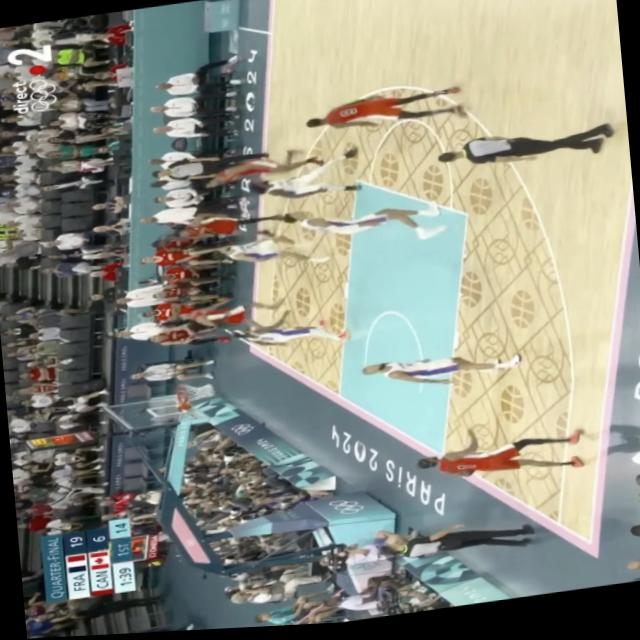ball_handler: (304, 88, 462, 142)
